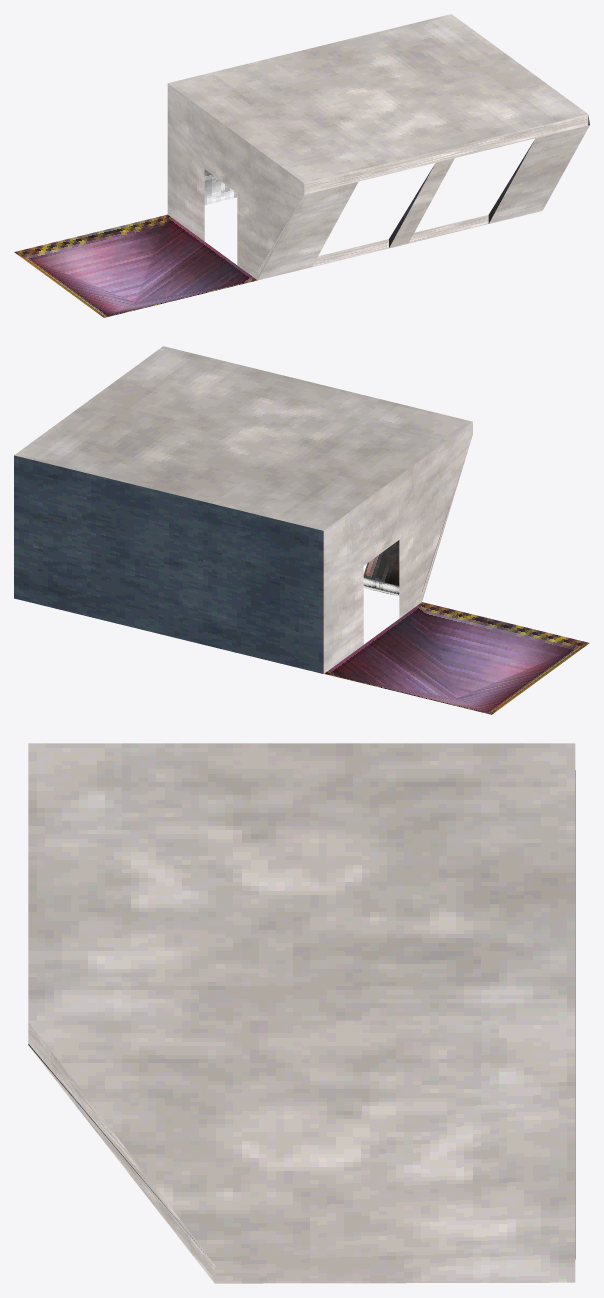
Rendered from CONTROLROOM.glb.
3 renders of one model, top to bottom at view 1: azimuth 30°, elevation 25°; view 2: azimuth 150°, elevation 25°; view 3: azimuth 270°, elevation 25°, orthographic. The views are drawn at different scales.
Parts seen in each view (by area): view 1: CONTROLROOM; view 2: CONTROLROOM; view 3: CONTROLROOM.
Part boxes in pixels (x1,y1,x2,y2): CONTROLROOM: [14, 14, 589, 317]; CONTROLROOM: [14, 346, 589, 714]; CONTROLROOM: [28, 743, 575, 1283].
Size of the model in its own units: 3721 by 1358 by 2008.
Materials: 5 (5 with a texture image).
